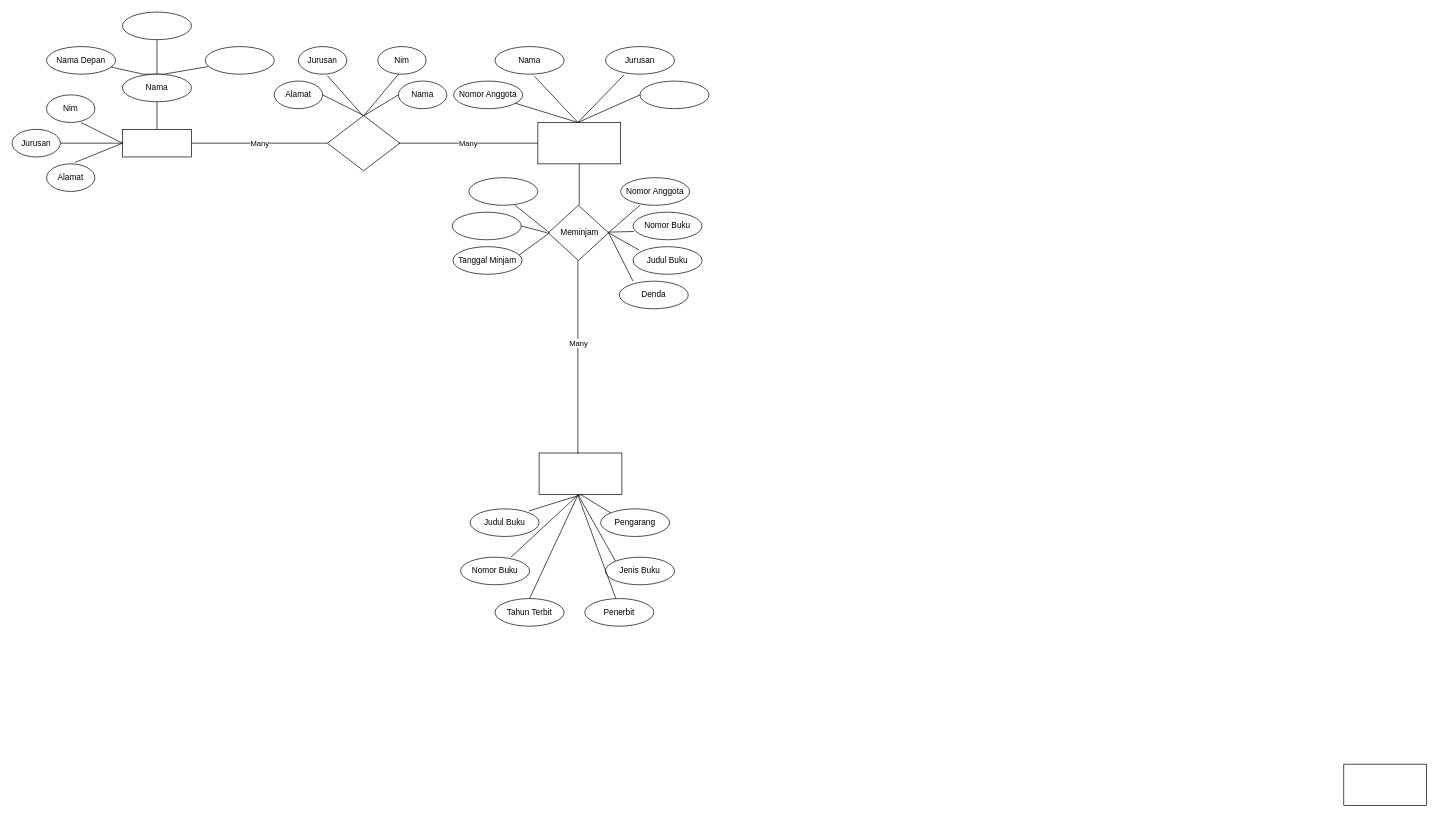
The diagram is 1439 pixels wide and 818 high, and some of its shapes have lost their labels. The shapes that lost their labels are listed below. From the top down, each one's box as (x1, y1, x2, y2) in pixels, then its label:
(122, 11, 191, 40): Nama Tengah
(205, 46, 274, 74): Nama Belakang
(639, 80, 709, 109): Masa Berlaku
(122, 129, 191, 157): Mahasiswa
(327, 115, 400, 171): Mendaftar
(537, 122, 621, 164): Anggota Perpustakaan
(468, 177, 538, 205): Kode Meminjam
(452, 211, 521, 240): Target Kembali
(538, 452, 622, 494): Buku
(1343, 763, 1427, 806): Entity
